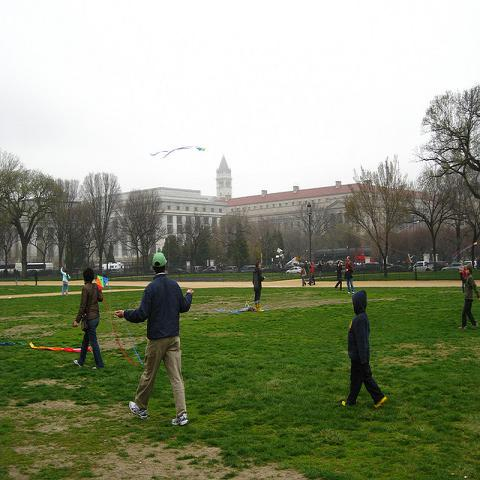bus: (26, 262, 44, 271)
car: (316, 259, 337, 272), (412, 260, 433, 272), (240, 264, 256, 274), (220, 265, 239, 273), (442, 263, 463, 270), (285, 266, 302, 273), (203, 266, 218, 273)
